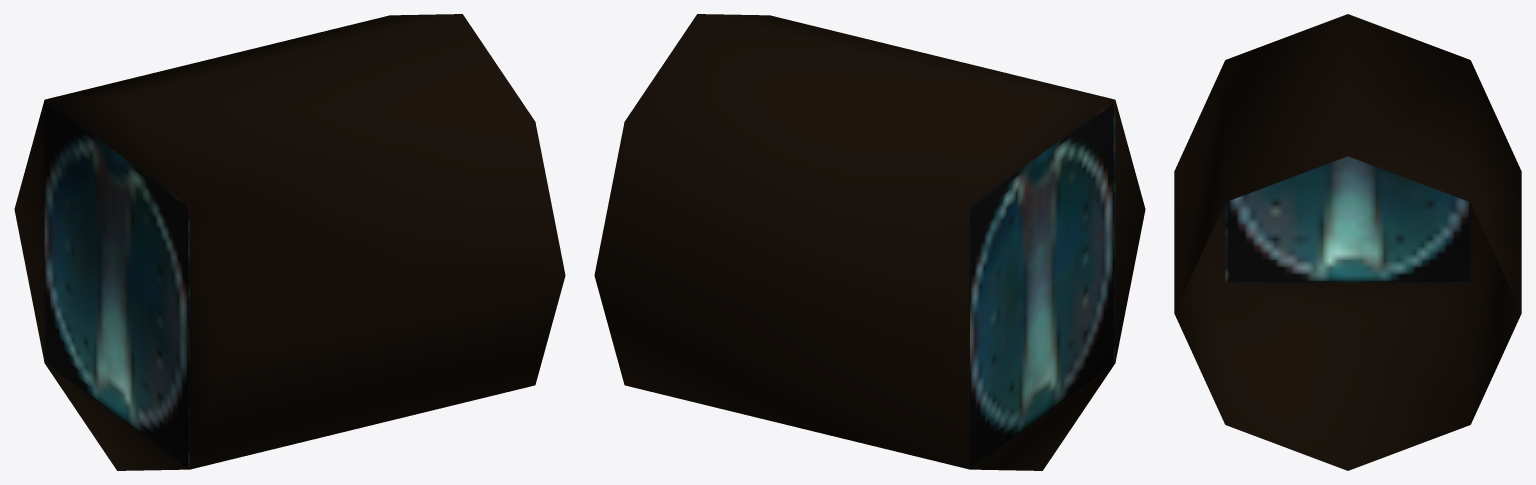
The model's file is WheelFrontR.obj.
The picture shows the model from 3 angles, left to right: view 1: azimuth 30°, elevation 25°; view 2: azimuth 150°, elevation 25°; view 3: azimuth 270°, elevation 25°; orthographic projection. The views are drawn at different scales.
Parts seen in each view (by area): view 1: WheelFrontR; view 2: WheelFrontR; view 3: WheelFrontR.
Part boxes in pixels (bbox=[...]): WheelFrontR: bbox=[14, 14, 565, 470]; WheelFrontR: bbox=[594, 14, 1145, 470]; WheelFrontR: bbox=[1174, 14, 1521, 470].
Size of the model in its own units: 0.88 by 0.9072 by 0.9072.
2 materials, 1 textured.
